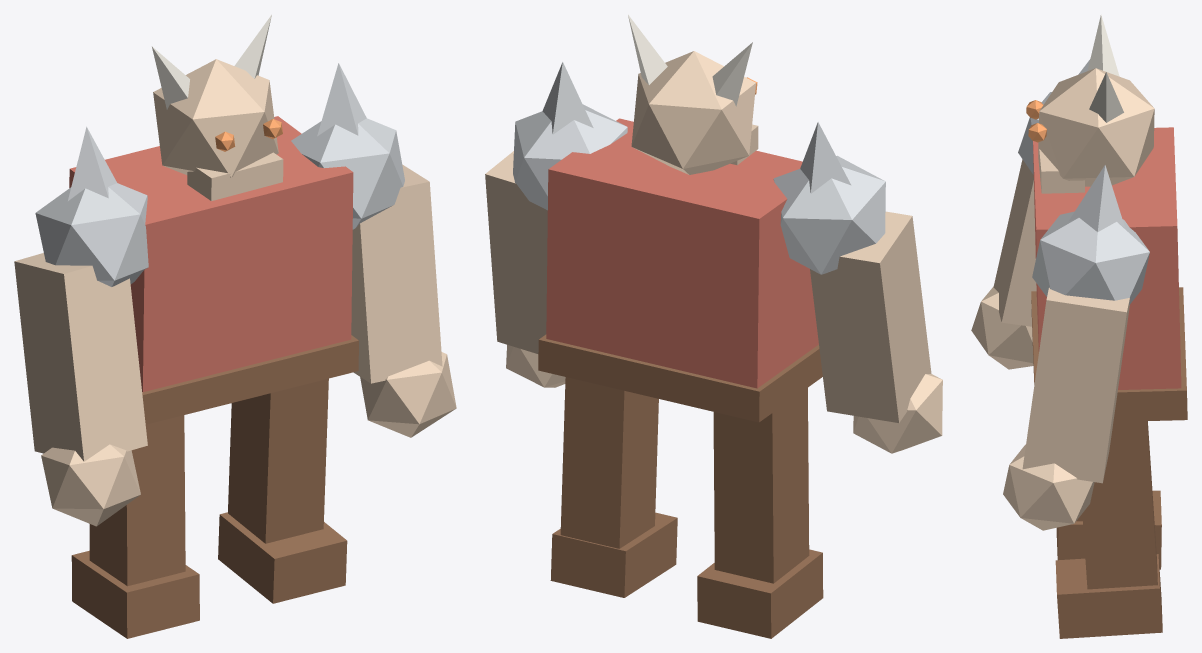
File: npcpose_brute_idle_03.glb
3 renders of one model, left to right at view 1: azimuth 30°, elevation 25°; view 2: azimuth 150°, elevation 25°; view 3: azimuth 270°, elevation 25°, orthographic. The views are drawn at different scales.
Parts seen in each view (by area): view 1: npcpose; view 2: npcpose; view 3: npcpose.
Boxes of the visible parts, bbox=[...] form: npcpose: bbox=[14, 14, 456, 638]; npcpose: bbox=[485, 14, 942, 638]; npcpose: bbox=[971, 14, 1187, 638].
Size of the model in its own units: 1.43 by 1.86 by 0.6695.
